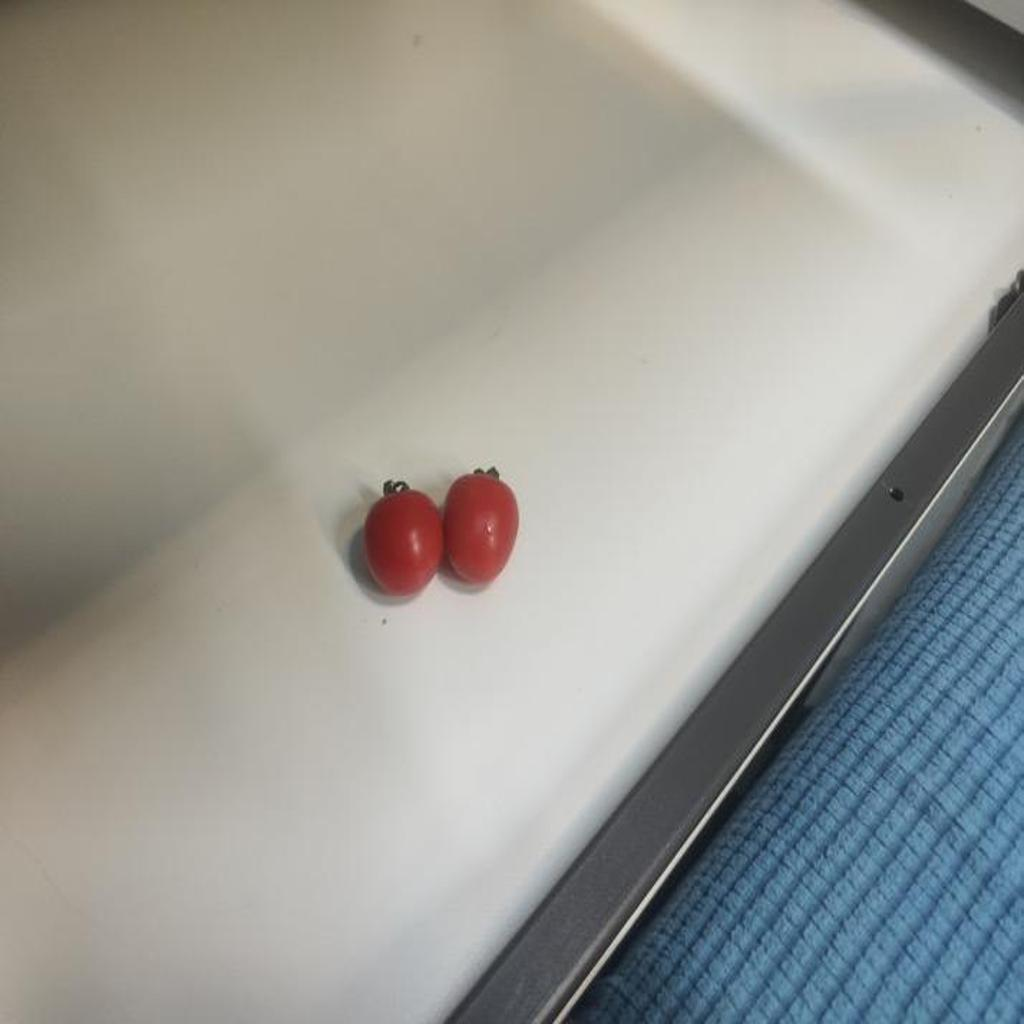tomato: (365, 480, 441, 612), (439, 465, 520, 584)
